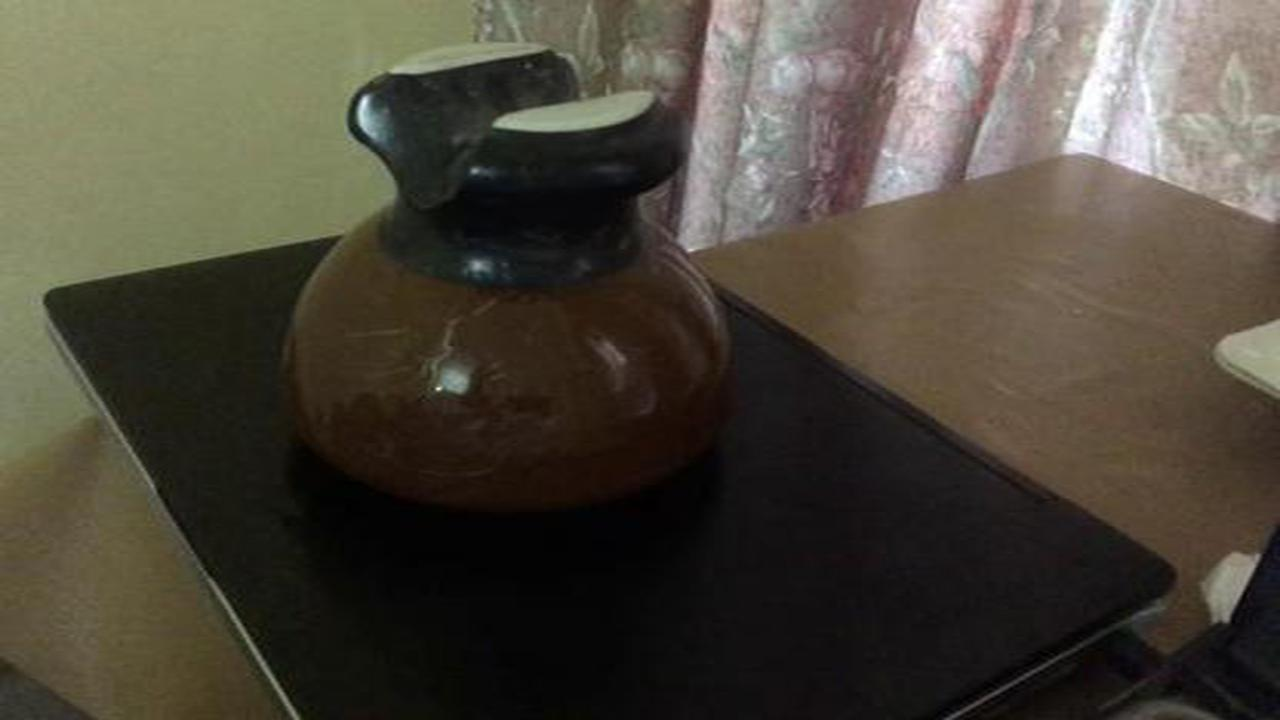insulator_pin: (270, 26, 745, 532)
